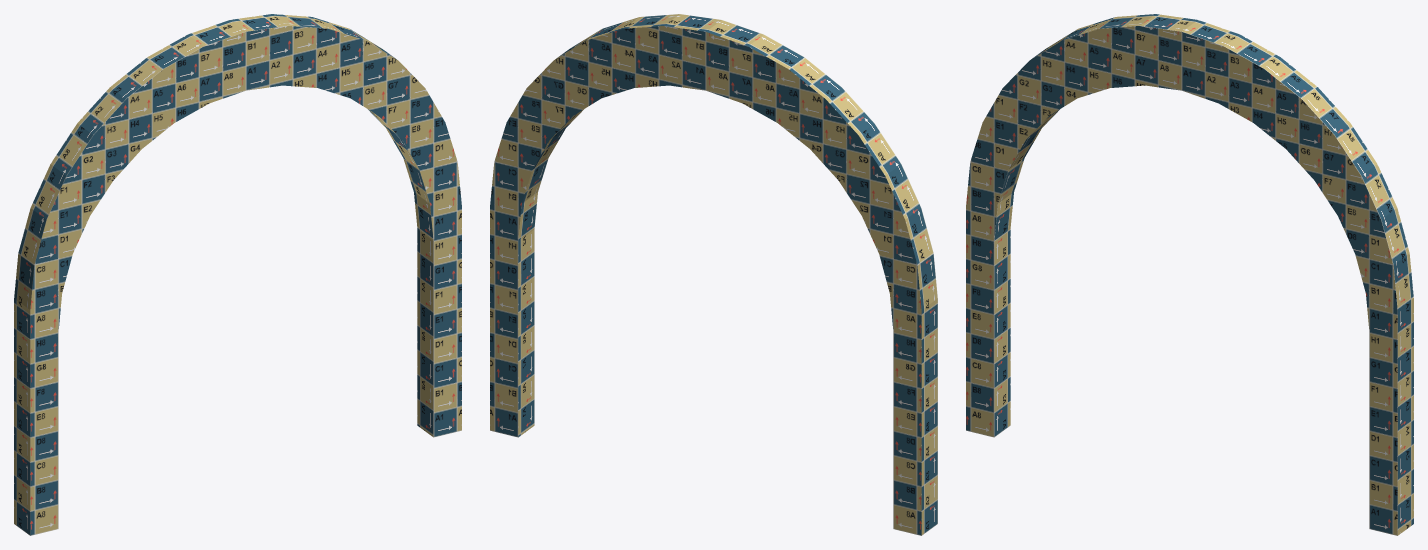
The model's file is ARCH_WideSpan.fbx.
The picture shows the model from 3 angles, left to right: view 1: azimuth 30°, elevation 25°; view 2: azimuth 150°, elevation 25°; view 3: azimuth 330°, elevation 25°; orthographic projection.
Parts seen in each view (by area): view 1: ARCH_WideSpan; view 2: ARCH_WideSpan; view 3: ARCH_WideSpan.
Boxes of the visible parts, left/top/right/bottom form: ARCH_WideSpan: left=14, top=14, right=461, bottom=535; ARCH_WideSpan: left=490, top=14, right=937, bottom=535; ARCH_WideSpan: left=966, top=14, right=1413, bottom=535.
Bounding box in the file's own units: 460 × 460 × 30.
Materials: 1 (1 with a texture image).
